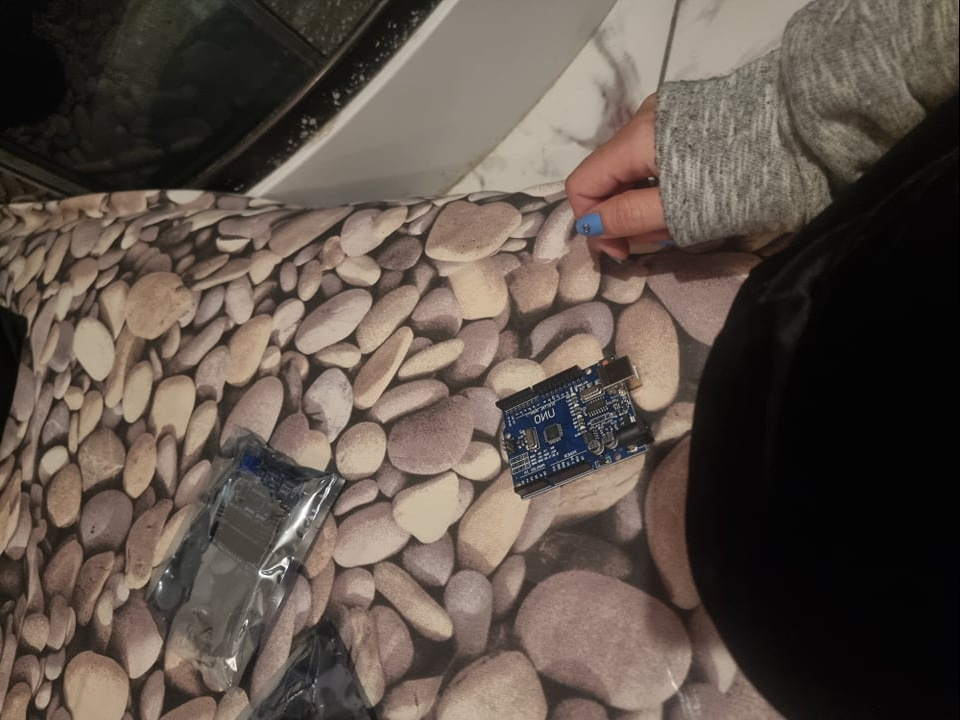UNO R3: (496, 354, 658, 499)
